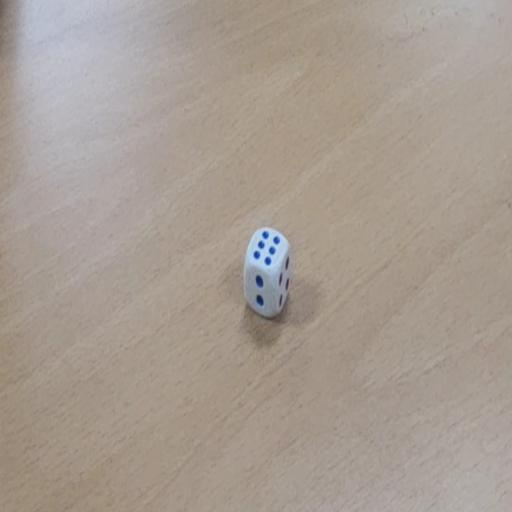dice_6: (243, 225, 293, 322)
